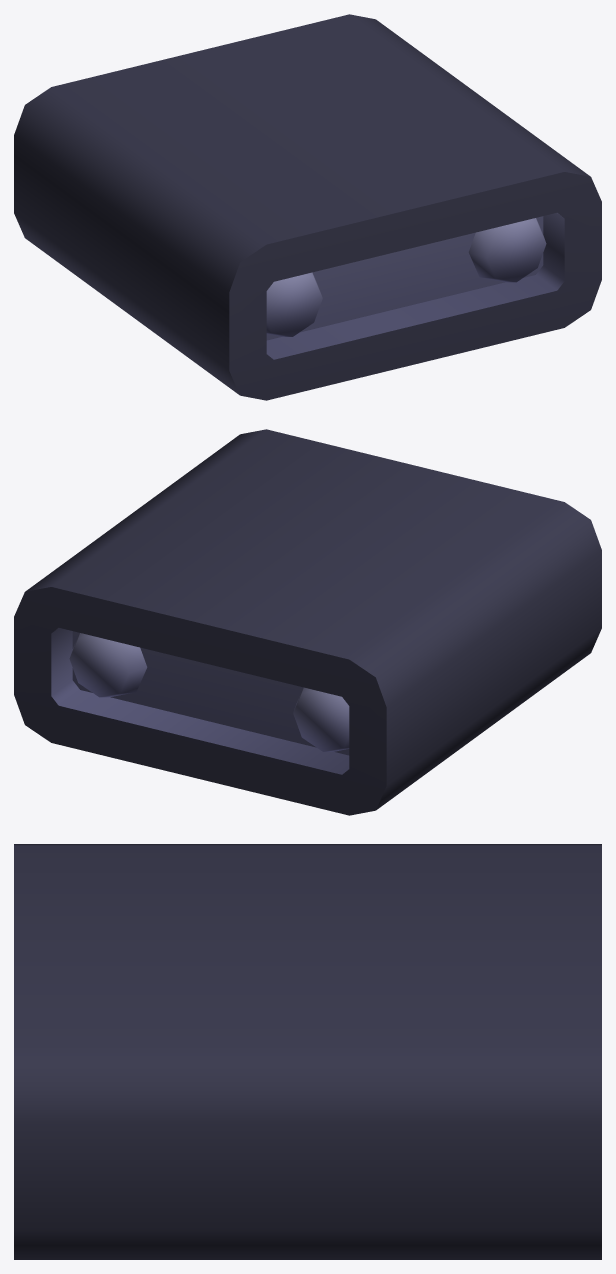
Rendered from conveyor.glb.
3 renders of one model, top to bottom at view 1: azimuth 30°, elevation 25°; view 2: azimuth 150°, elevation 25°; view 3: azimuth 270°, elevation 25°, orthographic. The views are drawn at different scales.
Visible parts, largest first — view 1: conveyor; view 2: conveyor; view 3: conveyor.
Part boxes in pixels (box(x1,y1,x2,y2)): conveyor: box(14, 14, 601, 400); conveyor: box(14, 429, 601, 815); conveyor: box(14, 844, 601, 1259).
Size of the model in its own units: 1 by 0.4 by 1.
